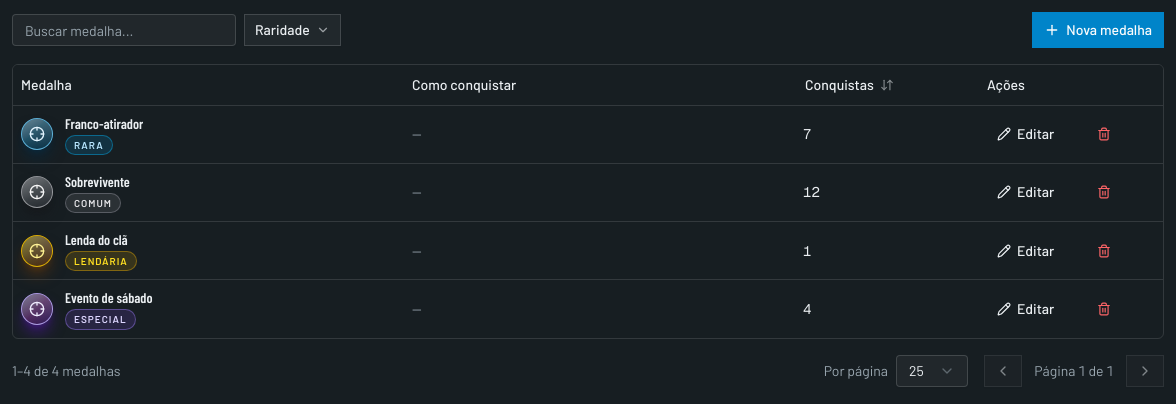
Test: MedalsManager › says so when the filters match nothing
In the search field labelled "Buscar medalha": (124, 30) [12,14,236,46], type "zzz"
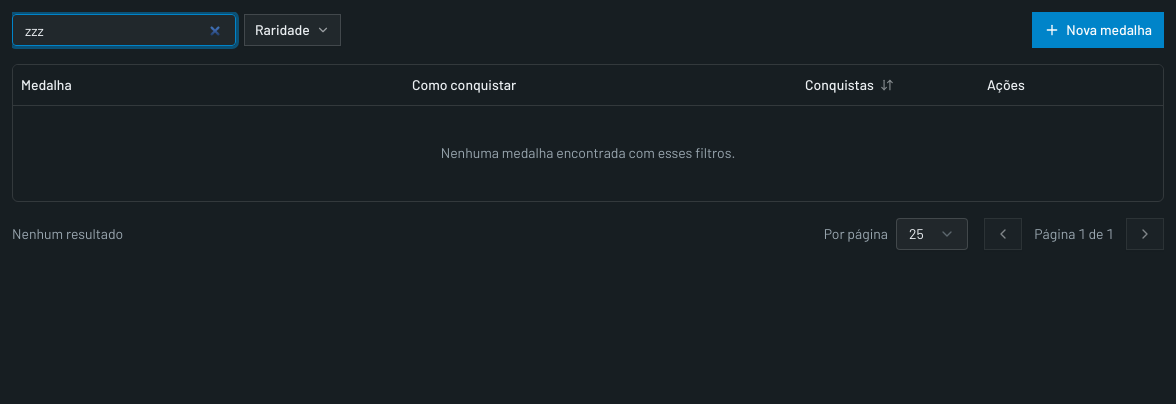
Now the text "Nenhuma medalha encontrada com esses filtros." is shown, box [13,105,1163,201]
